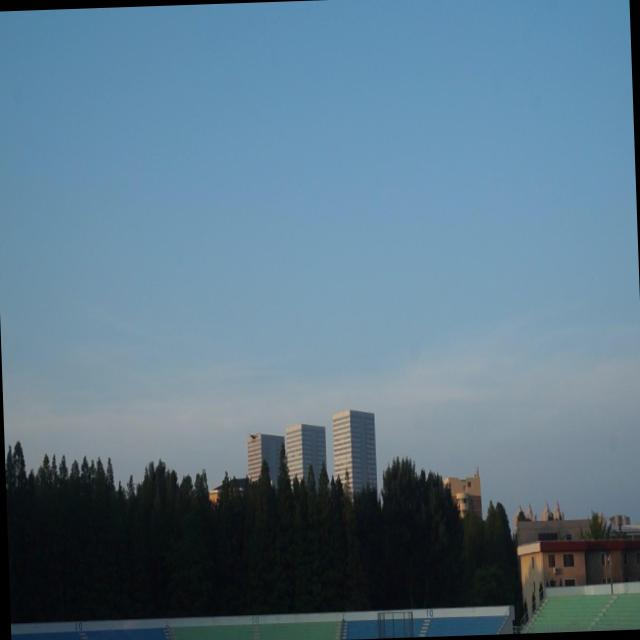drone: (248, 426, 258, 445)
